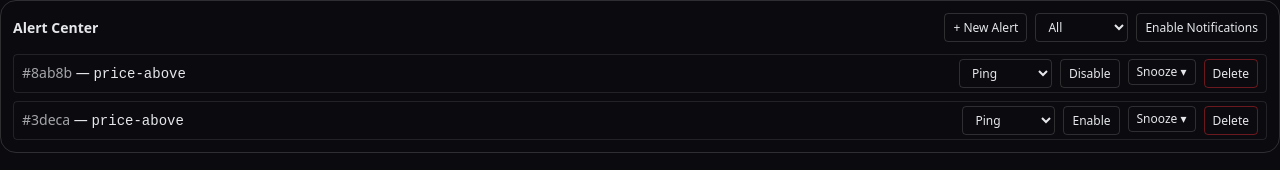
Test: AlertsPanel › filter functionality › should filter to active alerts only
The image size is (1280, 170).
Step 1. Select "Active" in the dropdown showing "All" in the row of "Alert Center" → (1082, 28), box [1035,13,1128,42]
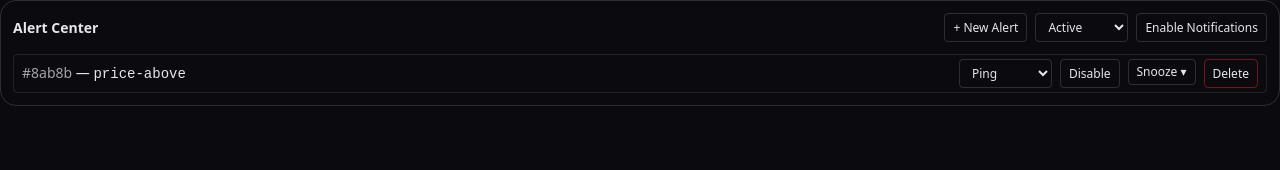
Check: the text "#8ab8b" is shown once, box [22,63,72,82]
